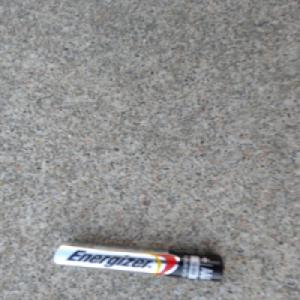Battery: (51, 242, 224, 282)
